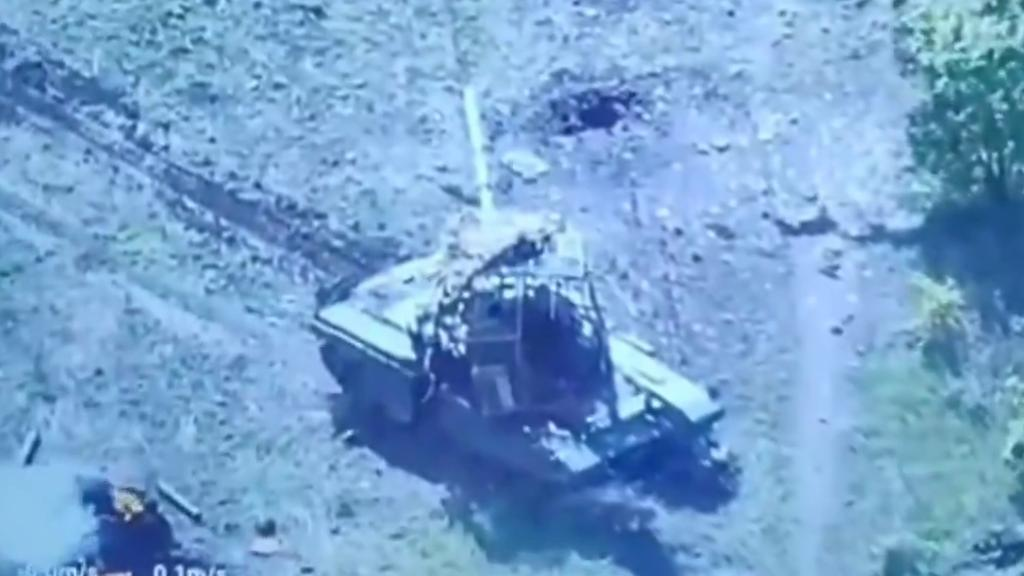TANK: (308, 82, 725, 510)
